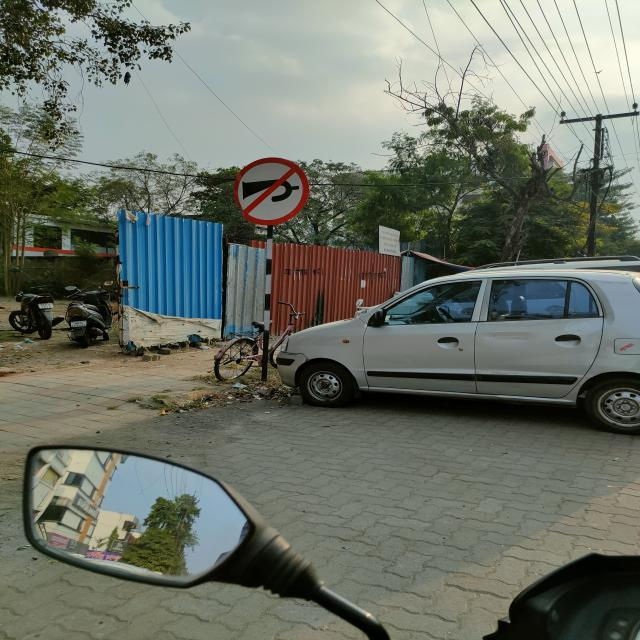horn prohibited: (231, 158, 312, 224)
